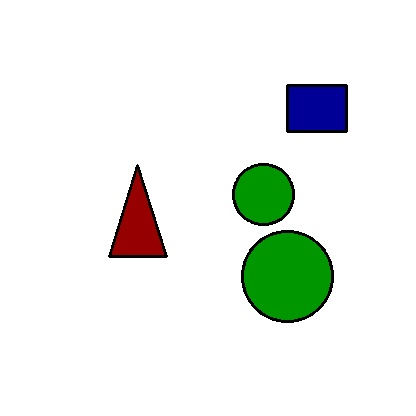circle: (242, 228, 333, 324), (233, 146, 293, 243)
rectangle: (287, 85, 346, 131)
triangle: (109, 165, 166, 256)
